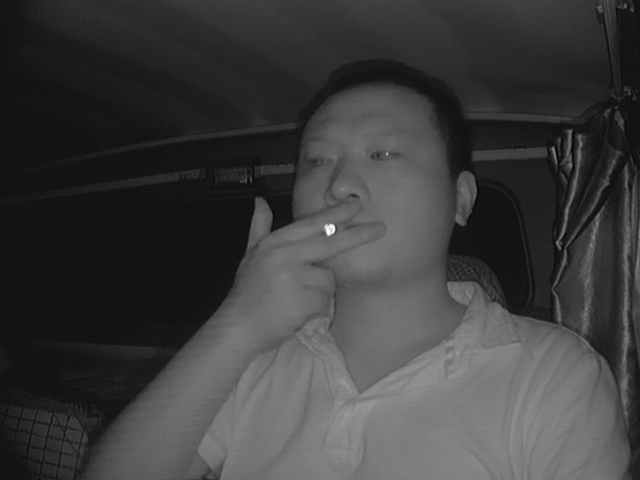hand: (275, 200, 381, 326)
